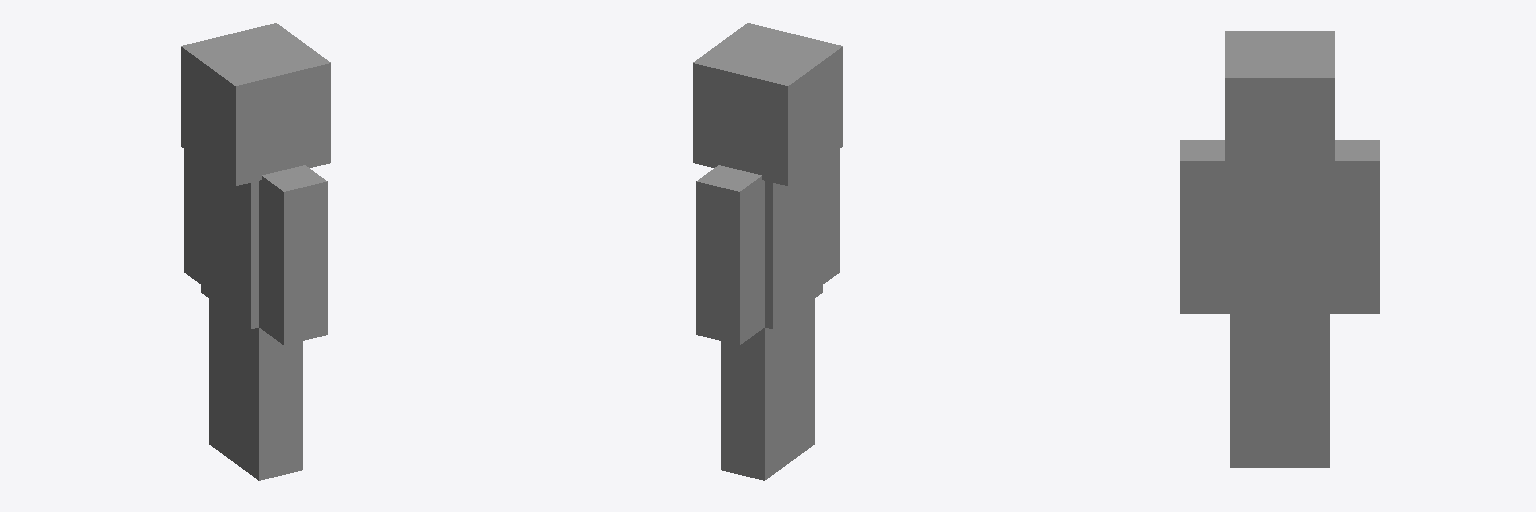
File: shop1.obj
3 views of the same model, side by side, from view 1: azimuth 30°, elevation 25°; view 2: azimuth 150°, elevation 25°; view 3: azimuth 270°, elevation 25° (orthographic).
Visible parts, largest first — view 1: Player_Cube.002; view 2: Player_Cube.002; view 3: Player_Cube.002.
Part boxes in pixels (left/top/right/bottom): Player_Cube.002: left=181, top=23, right=330, bottom=480; Player_Cube.002: left=693, top=23, right=842, bottom=480; Player_Cube.002: left=1180, top=31, right=1379, bottom=467.
Bounding box in the file's own units: 0.4436 × 1.78 × 0.8001.